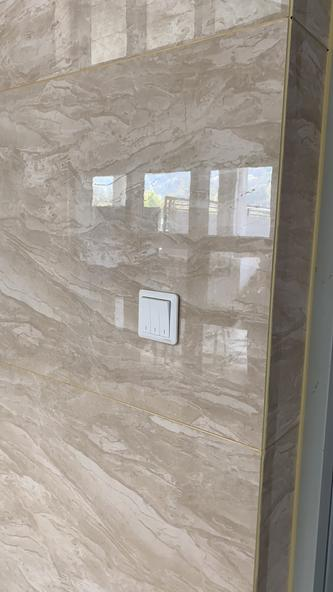switch: (158, 299, 169, 338), (148, 296, 158, 334), (139, 297, 149, 333)
